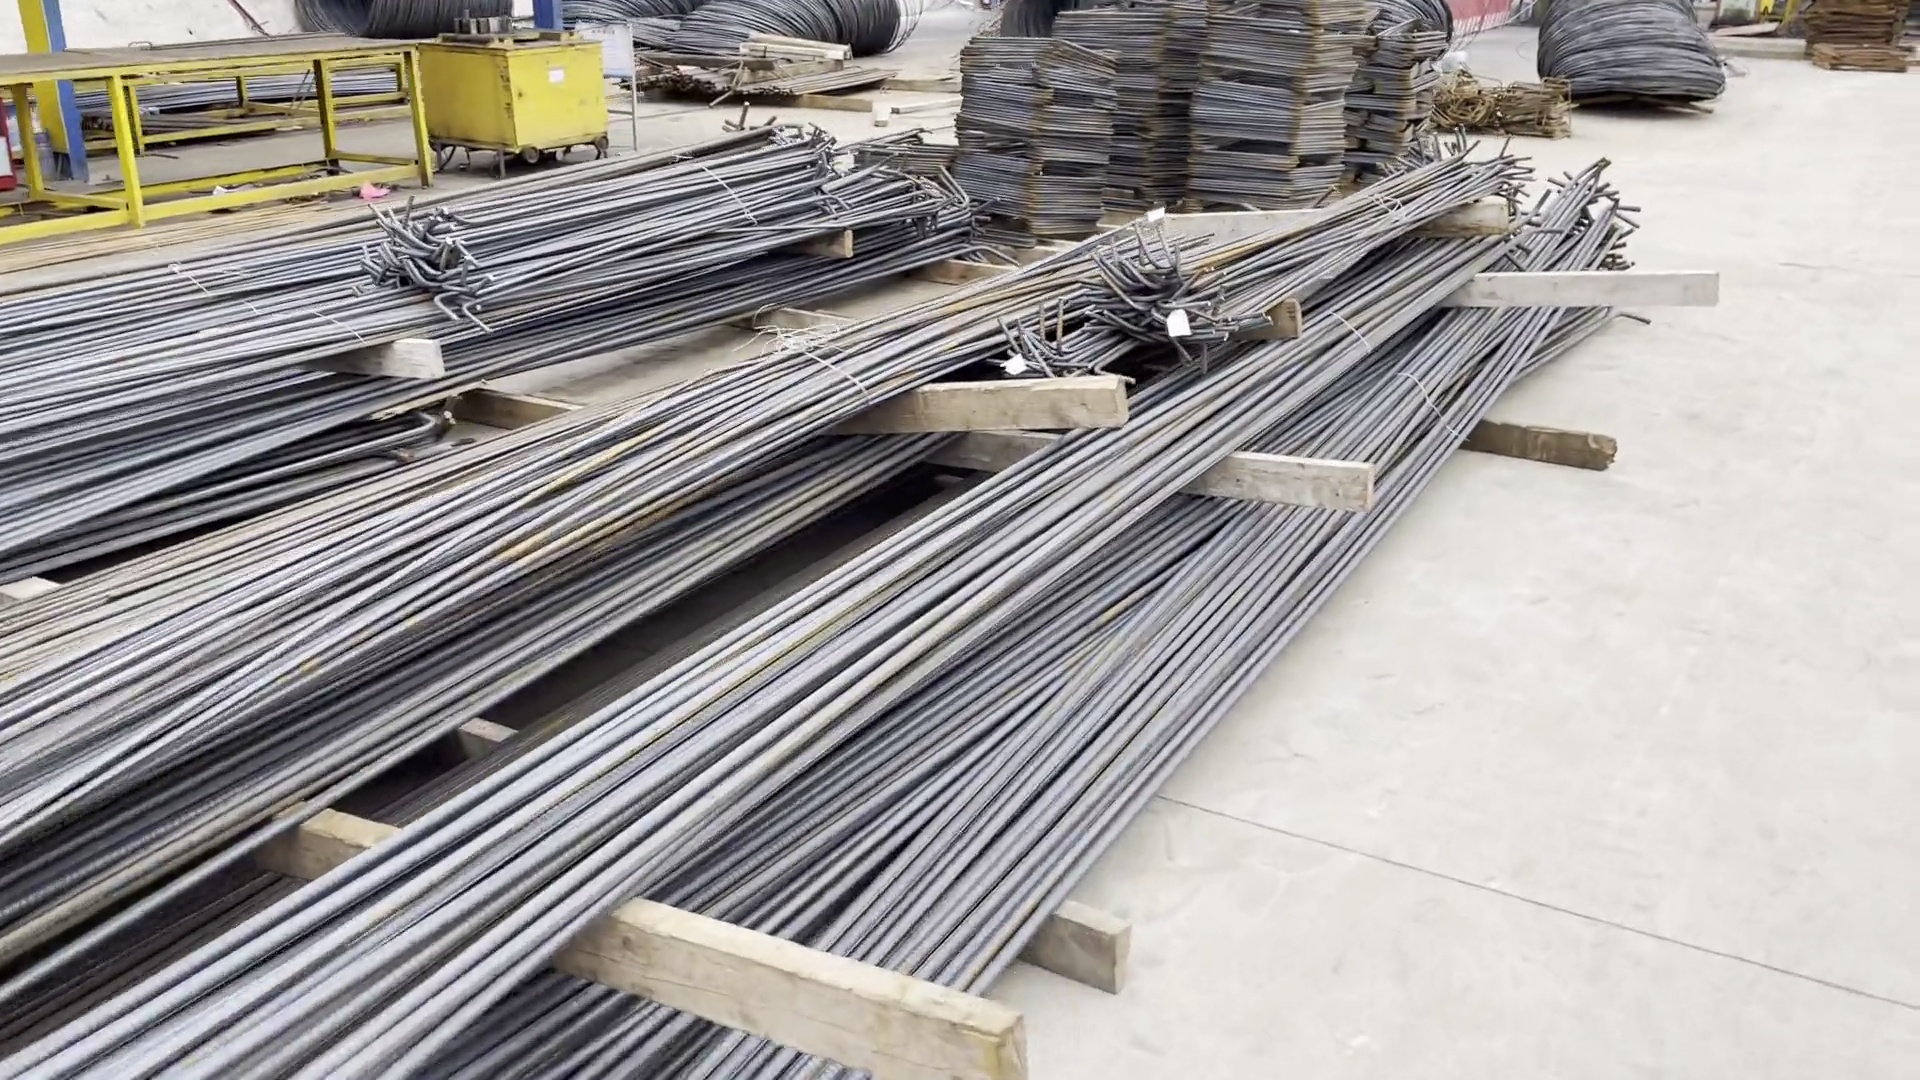rebar: (1, 98, 1655, 1080), (1, 61, 986, 582)
